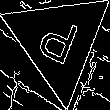P_SW: (34, 11, 84, 72)
